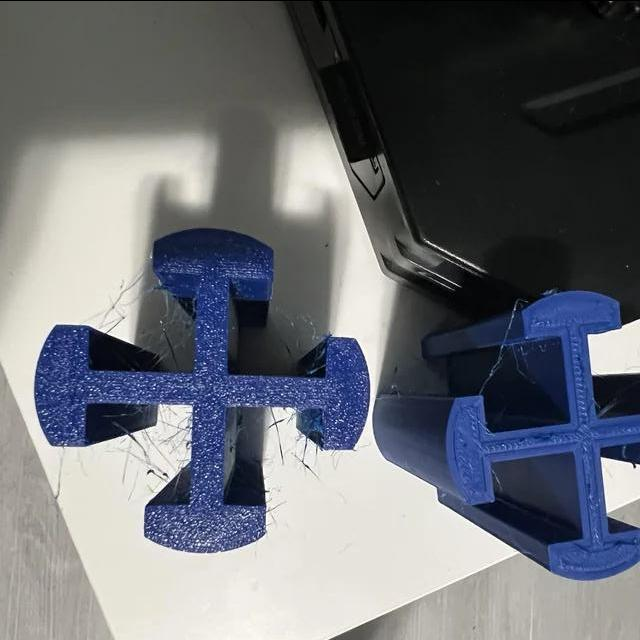stringing: (100, 409, 175, 484), (95, 269, 159, 332), (149, 318, 187, 352), (161, 415, 189, 455), (267, 414, 289, 450), (290, 441, 318, 466)
